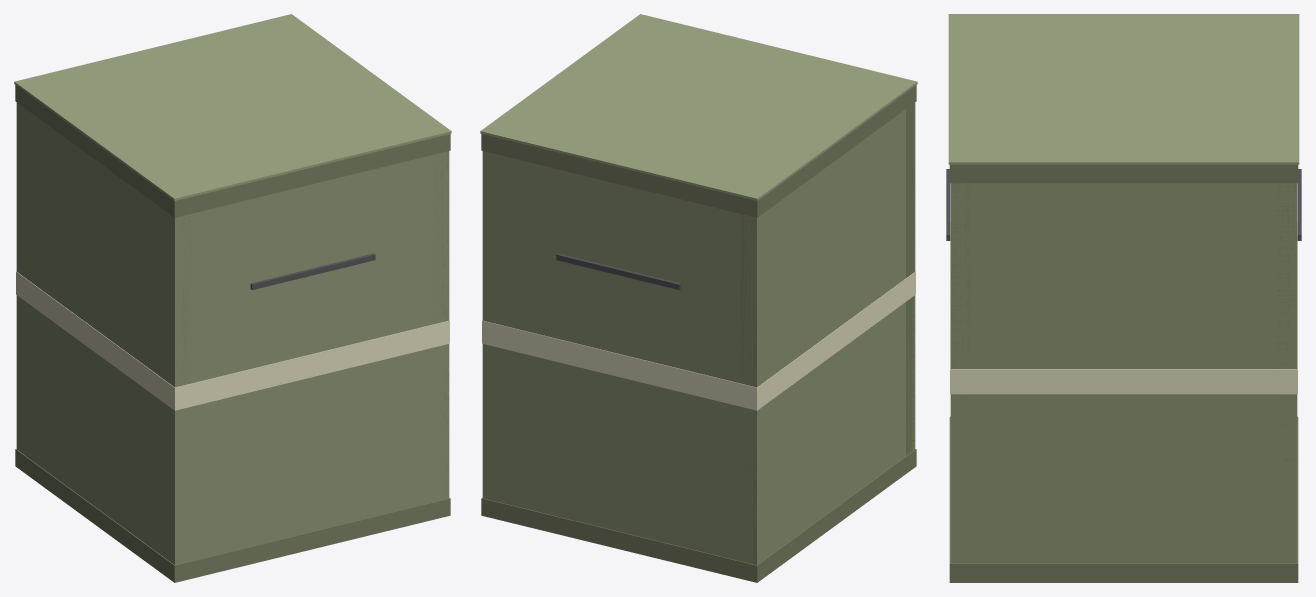
Rendered from dm_milcratetall.glb.
The picture shows the model from 3 angles, left to right: view 1: azimuth 30°, elevation 25°; view 2: azimuth 150°, elevation 25°; view 3: azimuth 270°, elevation 25°; orthographic projection. The views are drawn at different scales.
Visible parts, largest first — view 1: milcratetall; view 2: milcratetall; view 3: milcratetall.
Boxes of the visible parts, bbox=[...] form: milcratetall: bbox=[14, 14, 451, 582]; milcratetall: bbox=[480, 14, 917, 582]; milcratetall: bbox=[946, 14, 1301, 582].
Size of the model in its own units: 1.86 by 2.46 by 1.88.
